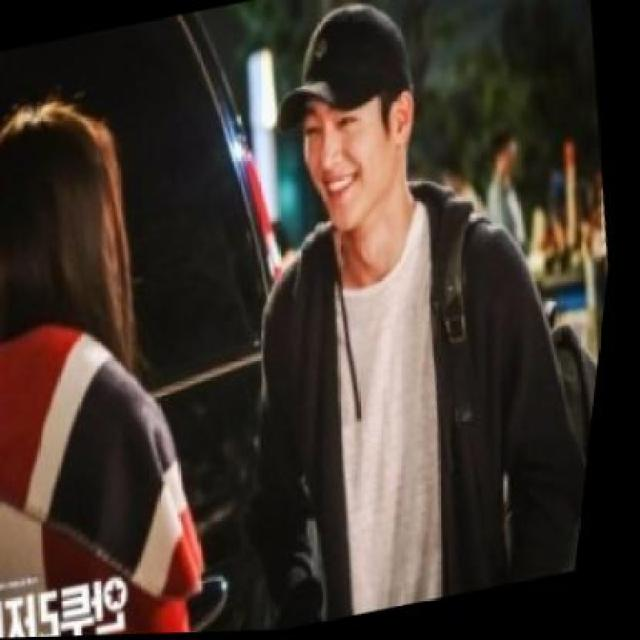hat: (257, 0, 428, 140)
